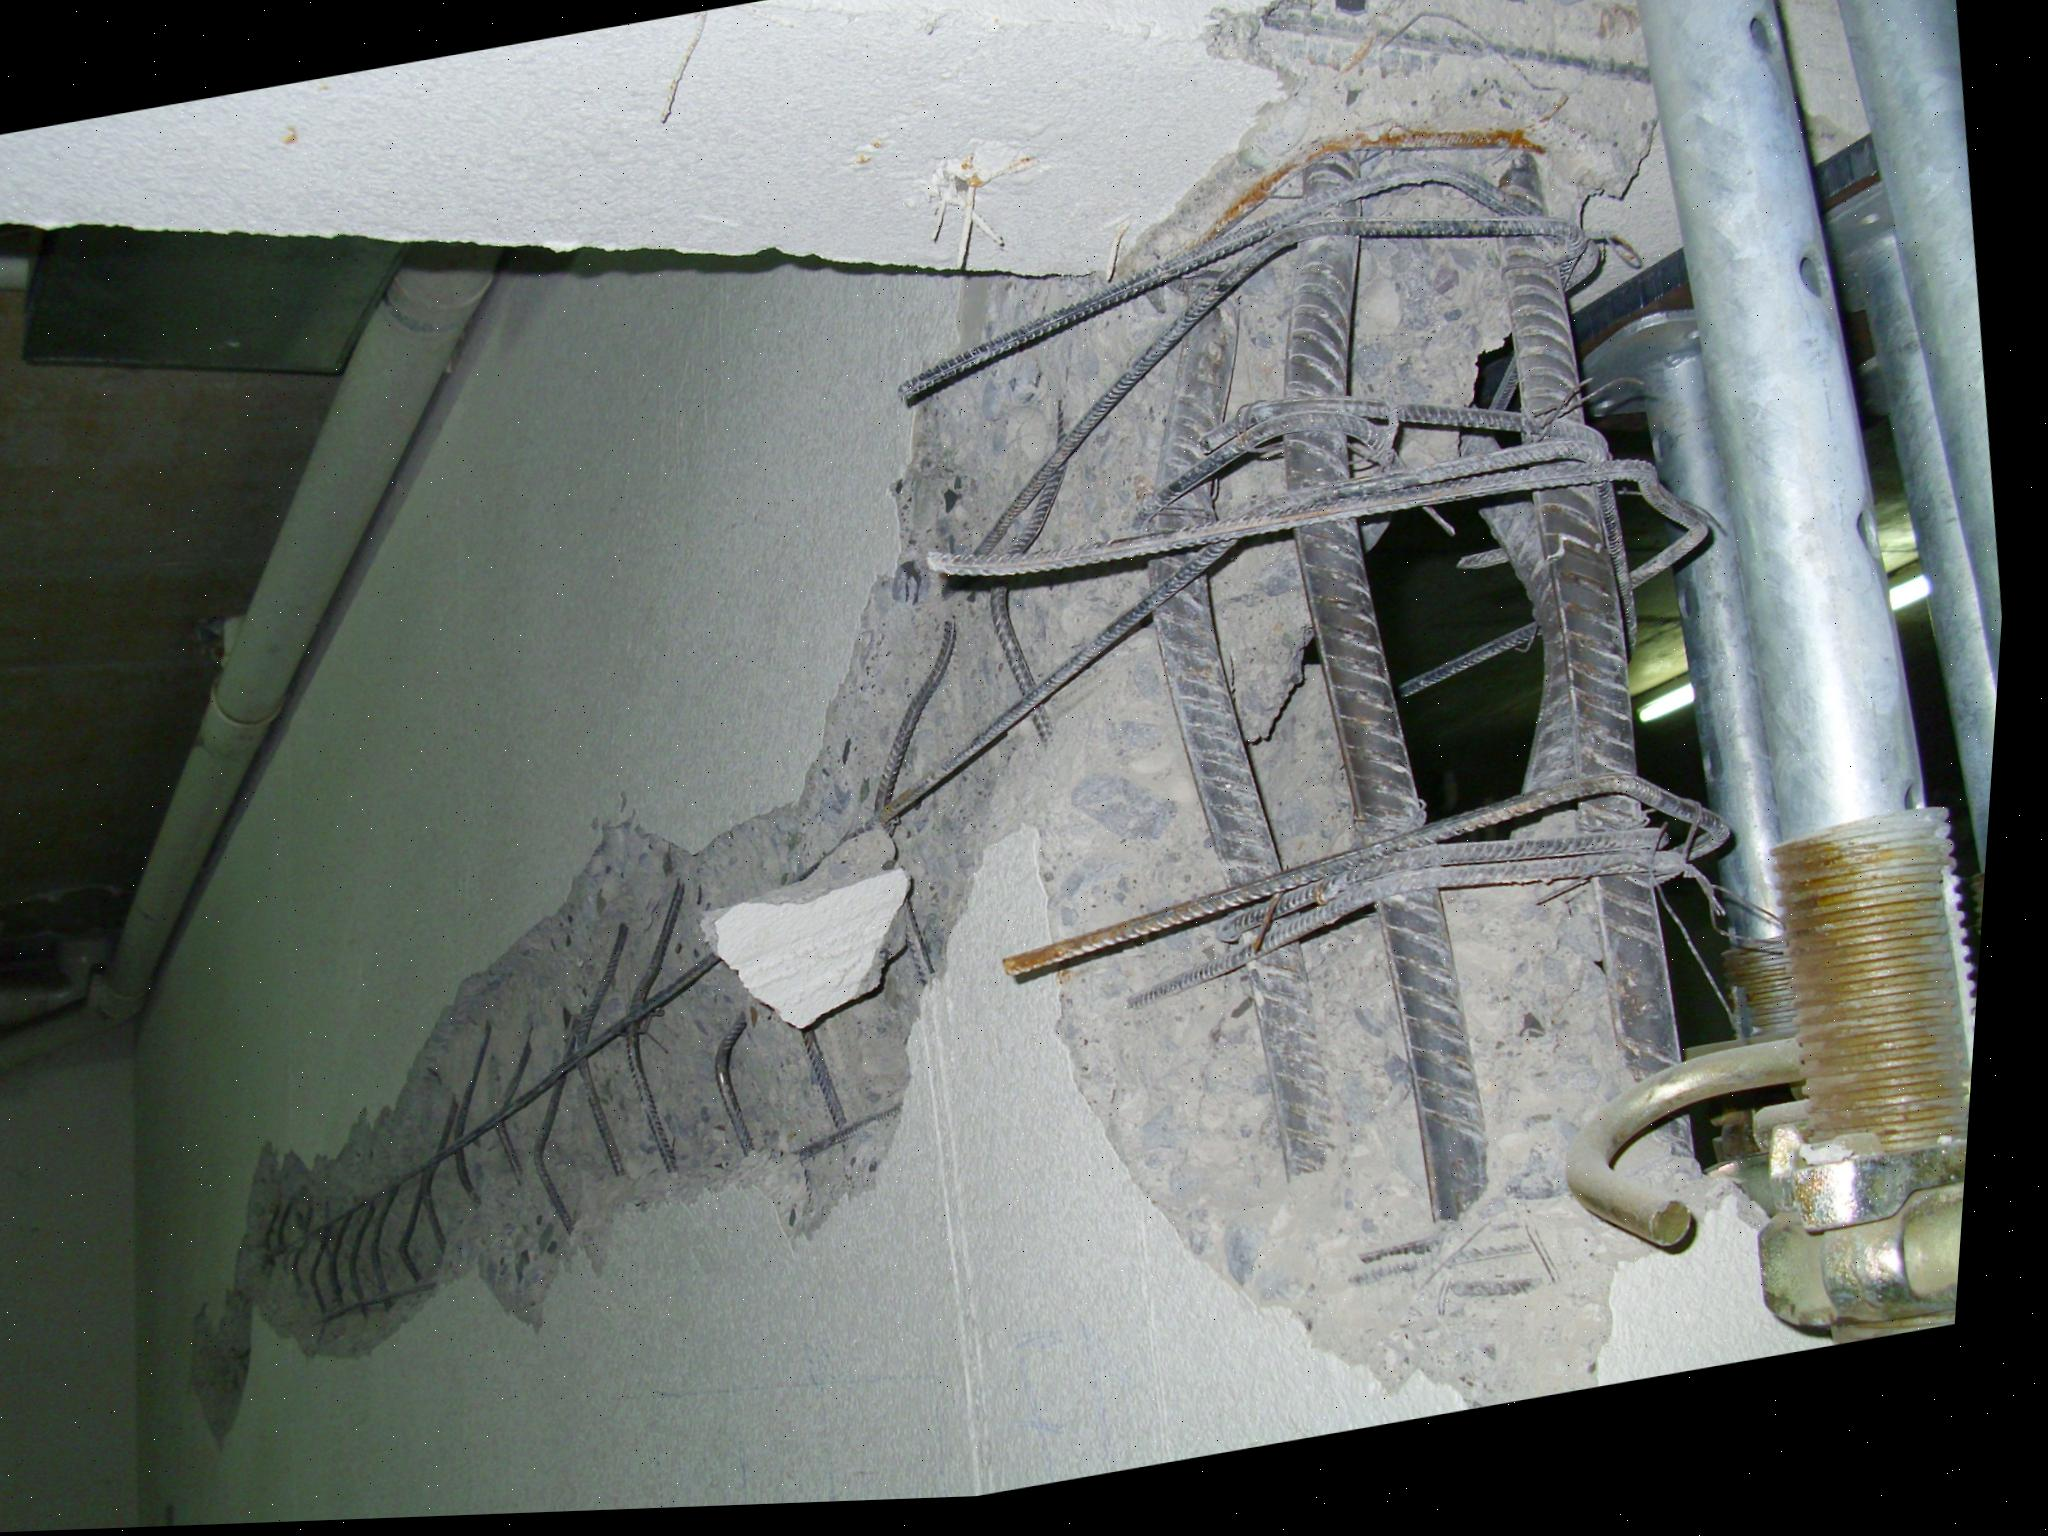spalling: (189, 0, 1769, 1455)
